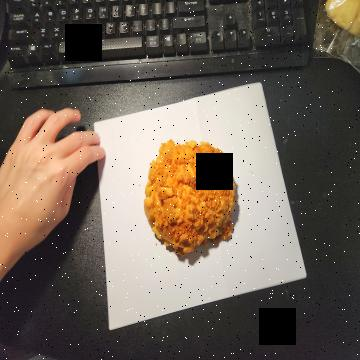soboru_bread: (144, 140, 235, 259)
